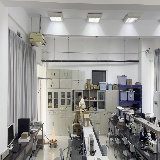fire: (50, 125, 55, 143)
